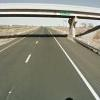Bridge: (1, 0, 95, 39)
